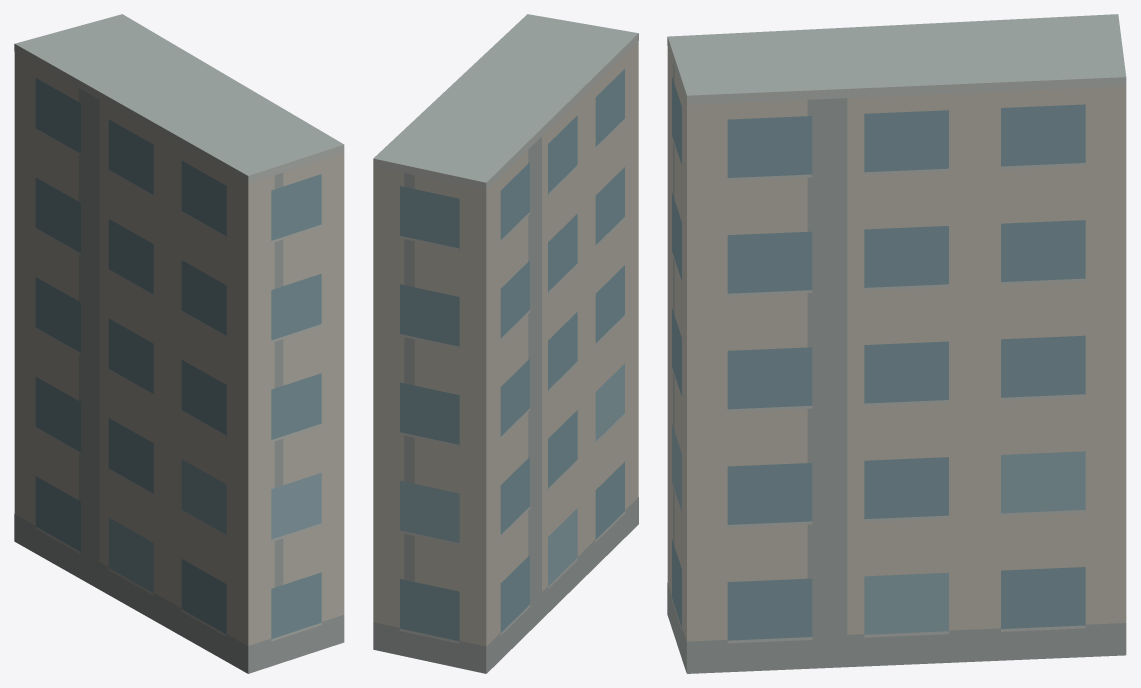
The model's file is survey-upis-32503978.glb.
3 views of the same model, side by side, from view 1: azimuth 30°, elevation 25°; view 2: azimuth 150°, elevation 25°; view 3: azimuth 270°, elevation 25° (orthographic). The views are drawn at different scales.
Visible parts, largest first — view 1: survey-upis-32503978.tmp; view 2: survey-upis-32503978.tmp; view 3: survey-upis-32503978.tmp.
Part boxes in pixels (left/top/right/bottom): survey-upis-32503978.tmp: left=14, top=14, right=344, bottom=673; survey-upis-32503978.tmp: left=373, top=14, right=638, bottom=673; survey-upis-32503978.tmp: left=667, top=14, right=1126, bottom=673.
Size of the model in its own units: 4.63 by 15.25 by 10.97.
